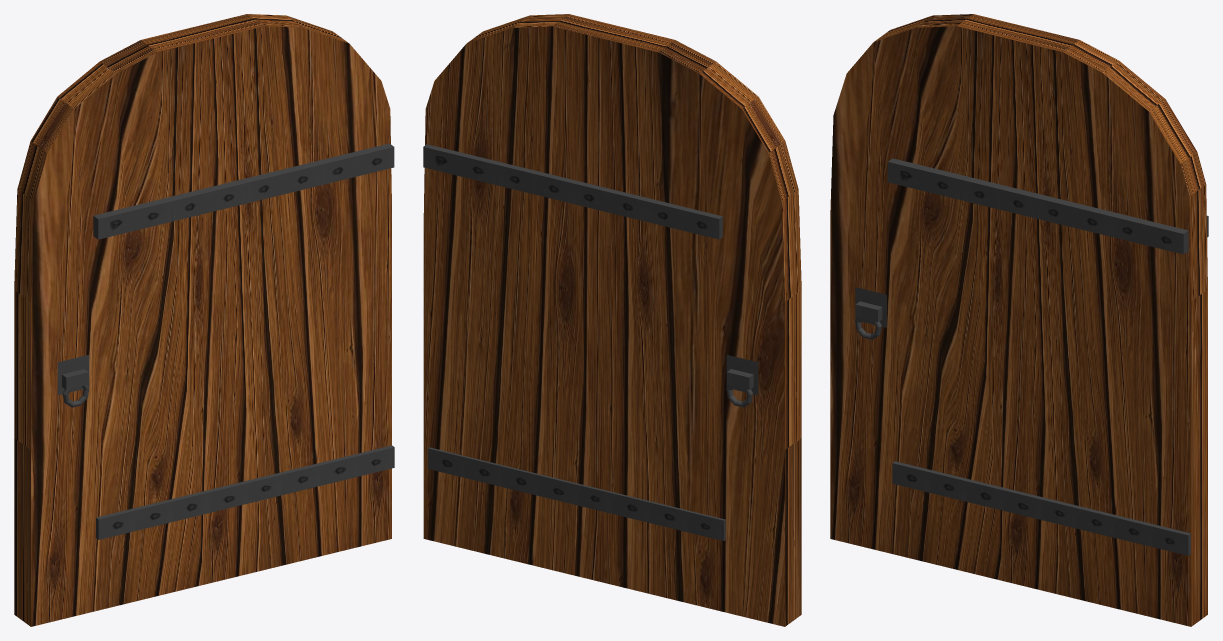
Rendered from castleTruedoor.glb.
3 views of the same model, side by side, from view 1: azimuth 30°, elevation 25°; view 2: azimuth 150°, elevation 25°; view 3: azimuth 330°, elevation 25° (orthographic).
Parts seen in each view (by area): view 1: Cube, Cube.002, Cube.001, Plane; view 2: Cube, Cube.005, Cube.004, Plane.001; view 3: Cube, Cube.002, Cube.001, Plane.
Part boxes in pixels (x1,y1,x2,y2): Cube: [14, 14, 391, 626]; Cube.002: [93, 143, 394, 239]; Cube.001: [96, 445, 394, 539]; Plane: [57, 355, 89, 395]; Cube: [423, 14, 801, 626]; Cube.005: [423, 144, 722, 239]; Cube.004: [428, 447, 725, 540]; Plane.001: [726, 355, 758, 395]; Cube: [830, 14, 1207, 626]; Cube.002: [887, 158, 1188, 254]; Cube.001: [892, 461, 1190, 555]; Plane: [855, 287, 886, 327].
Size of the model in its own units: 0.6845 by 0.985 by 0.0885.
Materials: 3 (3 with a texture image).
